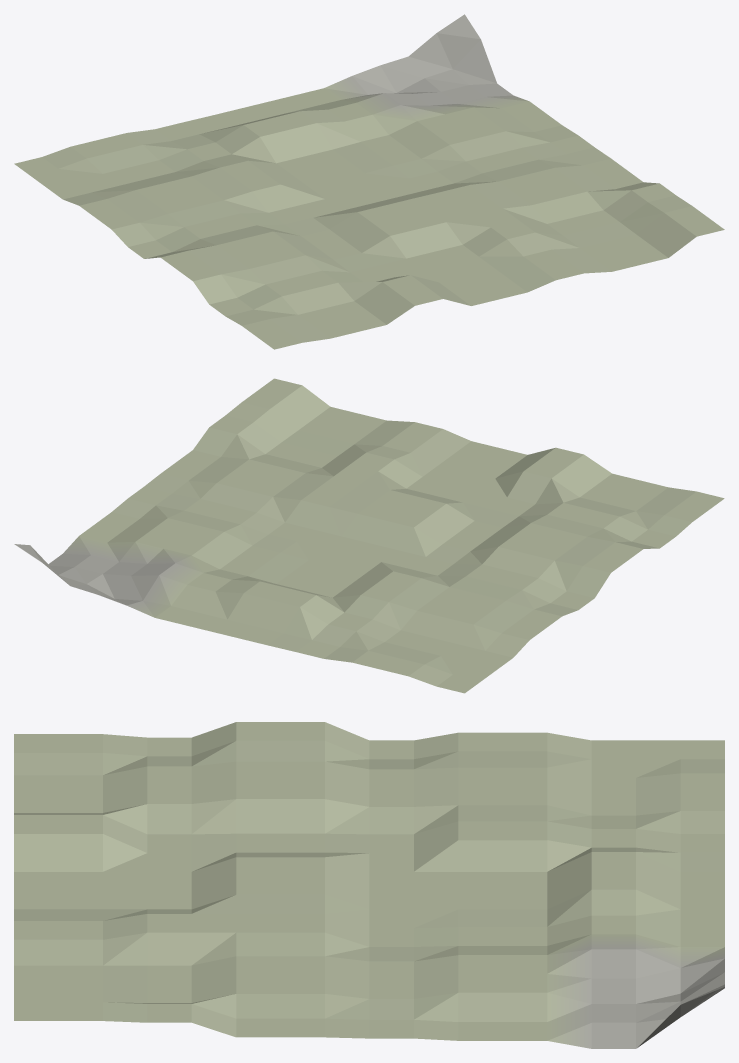
The picture shows the model from 3 angles, top to bottom: view 1: azimuth 30°, elevation 25°; view 2: azimuth 150°, elevation 25°; view 3: azimuth 270°, elevation 25°; orthographic projection. The views are drawn at different scales.
Size of the model in its own units: 32 by 3.13 by 32.
